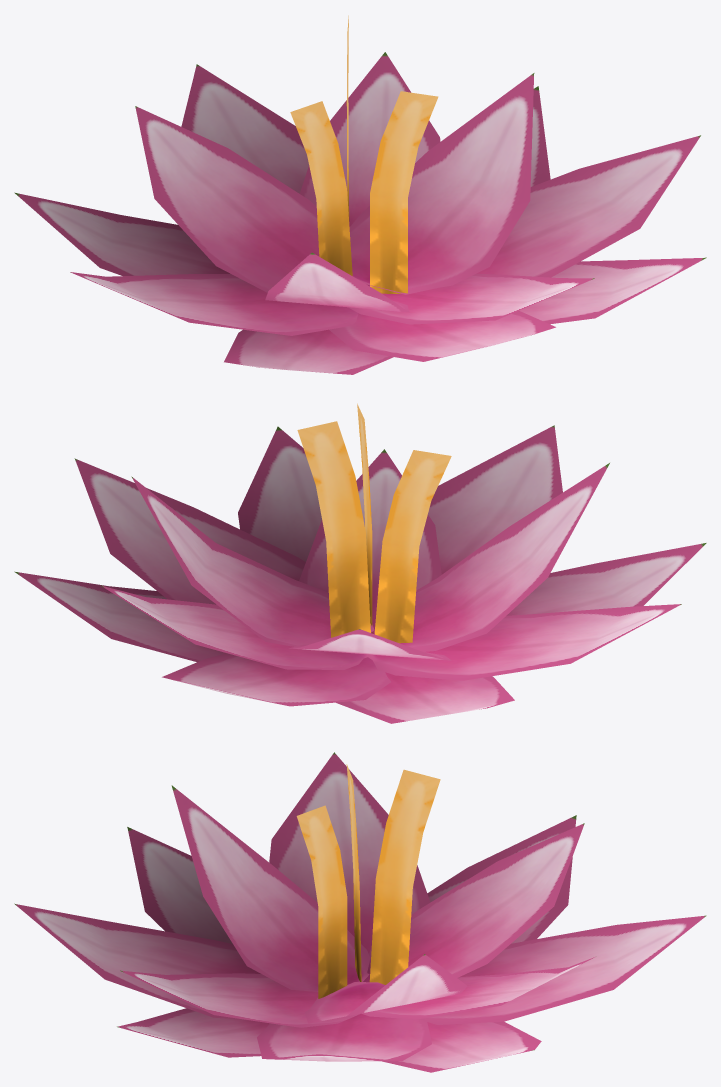
Rendered from waterPlant_02.fbx.
3 views of the same model, one above another, from view 1: azimuth 30°, elevation 25°; view 2: azimuth 150°, elevation 25°; view 3: azimuth 270°, elevation 25° (orthographic). The views are drawn at different scales.
Parts seen in each view (by area): view 1: waterPlant_02; view 2: waterPlant_02; view 3: waterPlant_02.
Part boxes in pixels (x1,y1,x2,y2): waterPlant_02: (14,15,706,374); waterPlant_02: (14,403,706,723); waterPlant_02: (14,752,706,1072).
Bounding box in the file's own units: 35.05 × 12.99 × 35.14.
